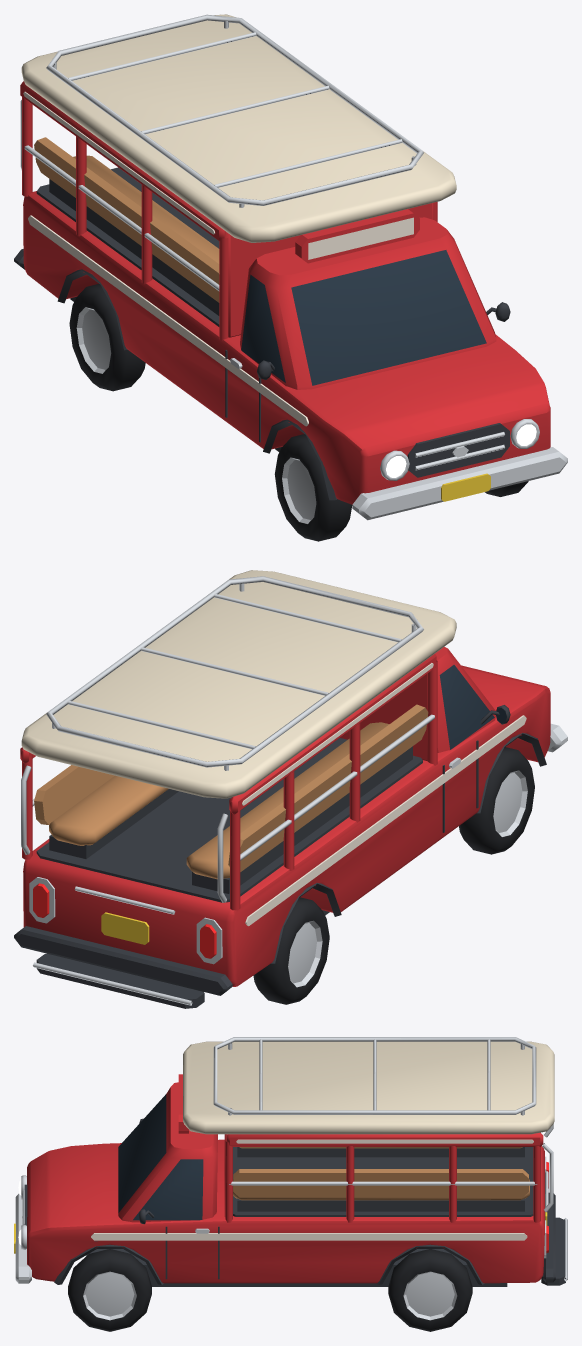
Rendered from veh_songthaew.glb.
The picture shows the model from 3 angles, top to bottom: view 1: azimuth 30°, elevation 25°; view 2: azimuth 150°, elevation 25°; view 3: azimuth 270°, elevation 25°; orthographic projection. The views are drawn at different scales.
Visible parts, largest first — view 1: body, wheel_FR, wheel_RR, route_board, head_lights; view 2: body, wheel_RR, wheel_FR, brake_lights; view 3: body, wheel_RL, wheel_FL.
Boxes of the visible parts, x1,y1,x2,y2 form: body: (14, 14, 567, 520); wheel_FR: (274, 434, 352, 541); wheel_RR: (69, 284, 145, 391); route_board: (308, 217, 413, 259); head_lights: (386, 424, 536, 477); body: (14, 570, 567, 1008); wheel_RR: (253, 897, 329, 1004); wheel_FR: (459, 747, 534, 854); brake_lights: (33, 883, 216, 958); body: (14, 1037, 567, 1286); wheel_RL: (388, 1249, 472, 1331); wheel_FL: (68, 1249, 151, 1331).
Size of the model in its own units: 2.05 by 2.19 by 5.
